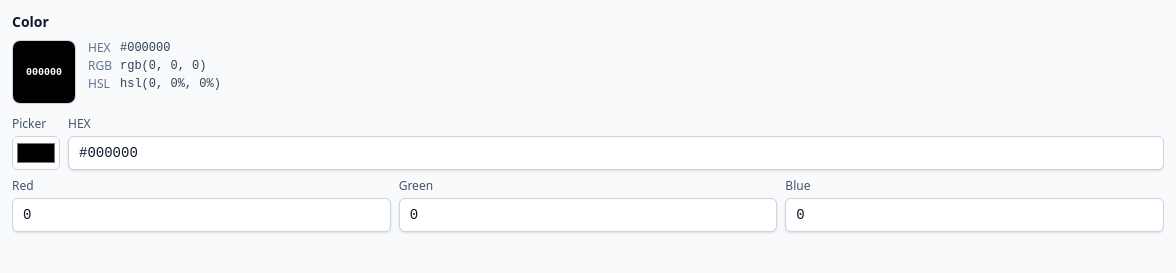
ColorField › applies valid HEX, rejects invalid HEX on blur
Replace the text in the field labelled "HEX" with "#1e90ff" at (616, 153), box [68,136,1164,170]
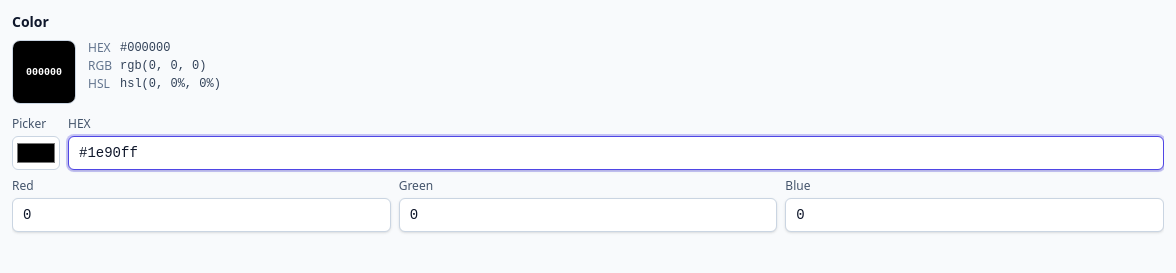
Type "zzz1" into the field labelled "HEX".
click(616, 153); type("zzz1")  # box [68,136,1164,170]
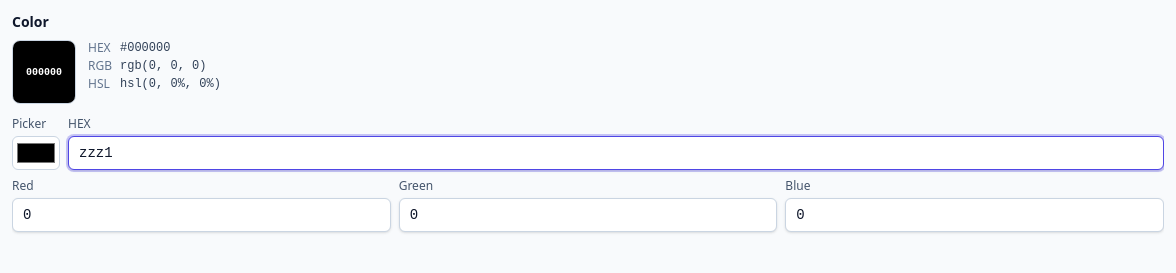
Leave the field labelled "HEX", box [68,136,1164,170]
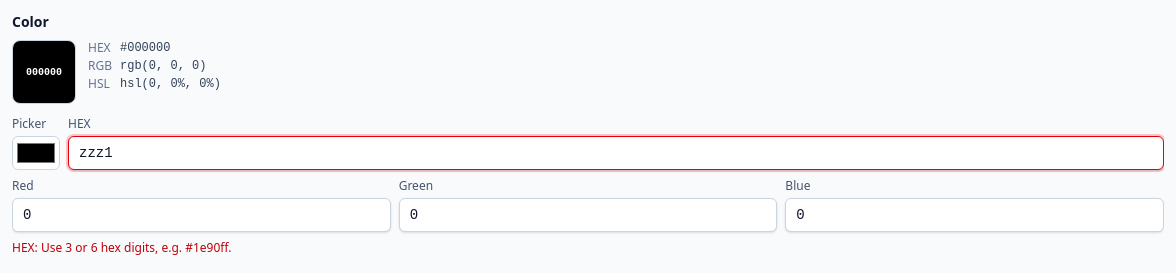
Expected: the message shows "3 or 6 hex digits", [41,239,231,256]
